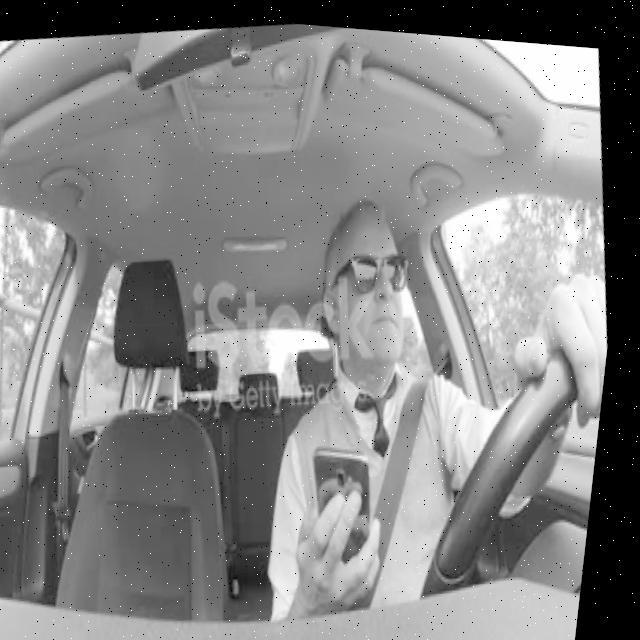PhoneCall: (308, 432, 402, 598)
